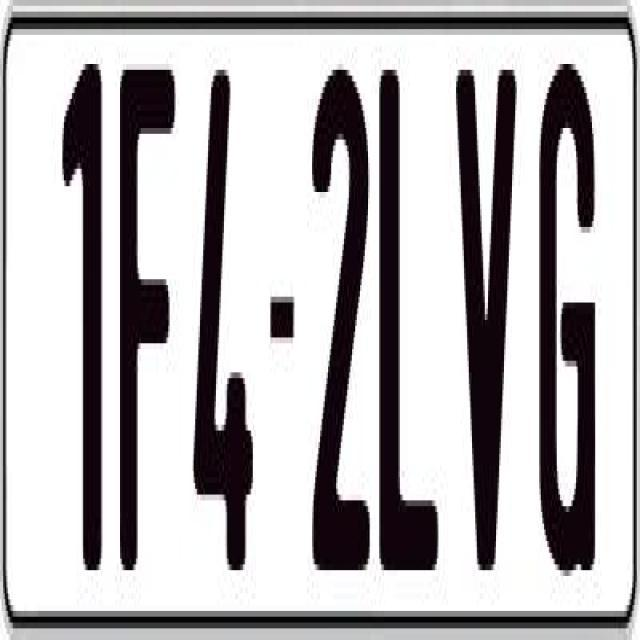1: (63, 58, 109, 599)
2: (309, 58, 373, 594)
4: (193, 58, 260, 594)
F: (120, 70, 184, 582)
G: (536, 46, 600, 582)
L: (376, 70, 435, 582)
V: (451, 64, 515, 576)
